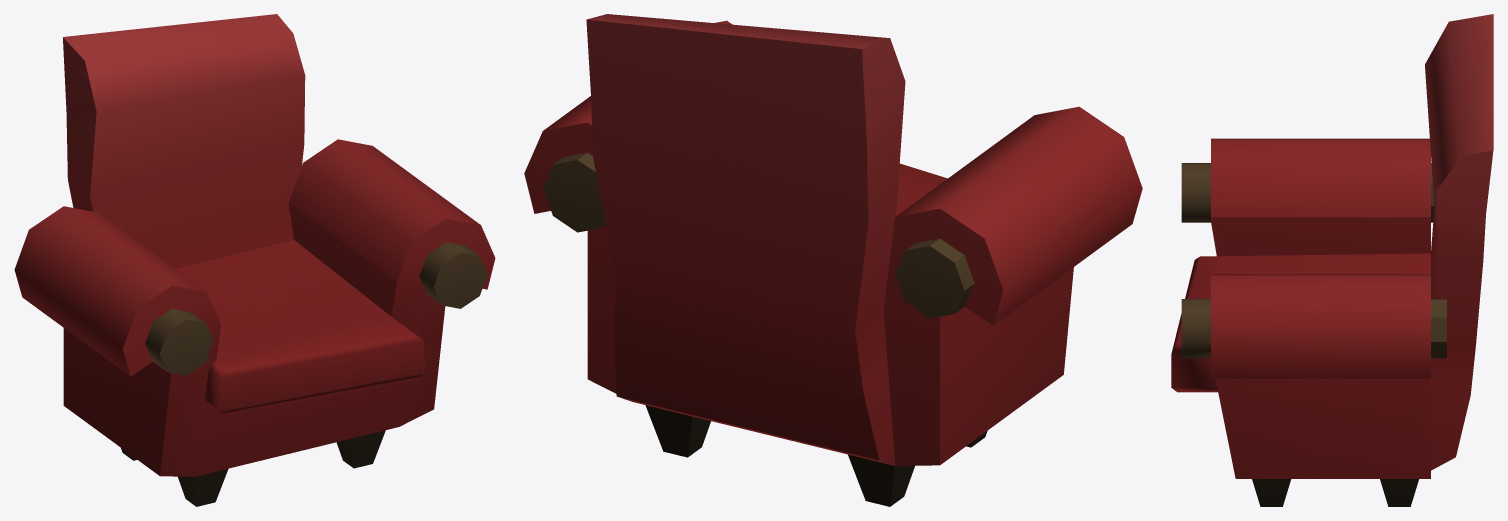
Rendered from poltrona.fbx.
3 views of the same model, side by side, from view 1: azimuth 30°, elevation 25°; view 2: azimuth 150°, elevation 25°; view 3: azimuth 270°, elevation 25° (orthographic). The views are drawn at different scales.
Parts seen in each view (by area): view 1: SM_poltrona; view 2: SM_poltrona; view 3: SM_poltrona.
Part boxes in pixels (box(x1,y1,x2,y2)): SM_poltrona: box(14, 14, 495, 506); SM_poltrona: box(524, 14, 1142, 506); SM_poltrona: box(1171, 14, 1493, 506).
Size of the model in its own units: 224 by 224 by 165.
